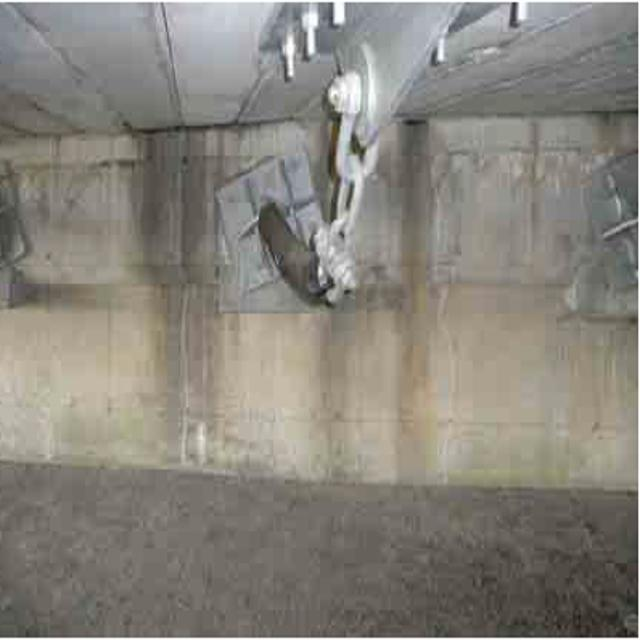leakage: (126, 124, 233, 464), (387, 124, 437, 493)
